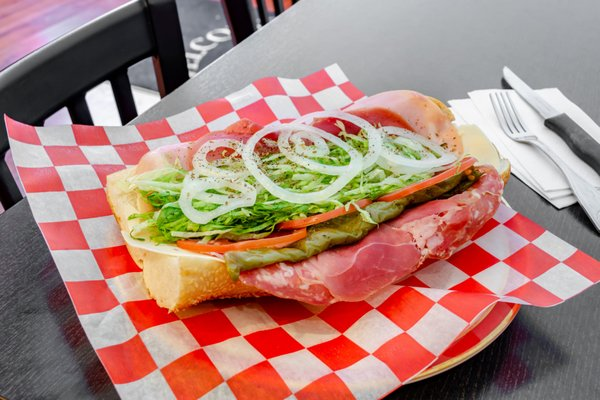sandwich: (489, 87, 600, 236), (502, 64, 600, 181)
soup: (129, 89, 508, 313)
